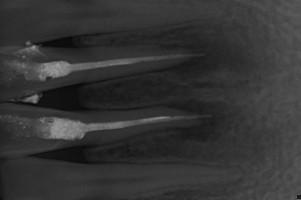Furcation Involvement: (161, 31, 258, 79), (164, 99, 230, 142)
